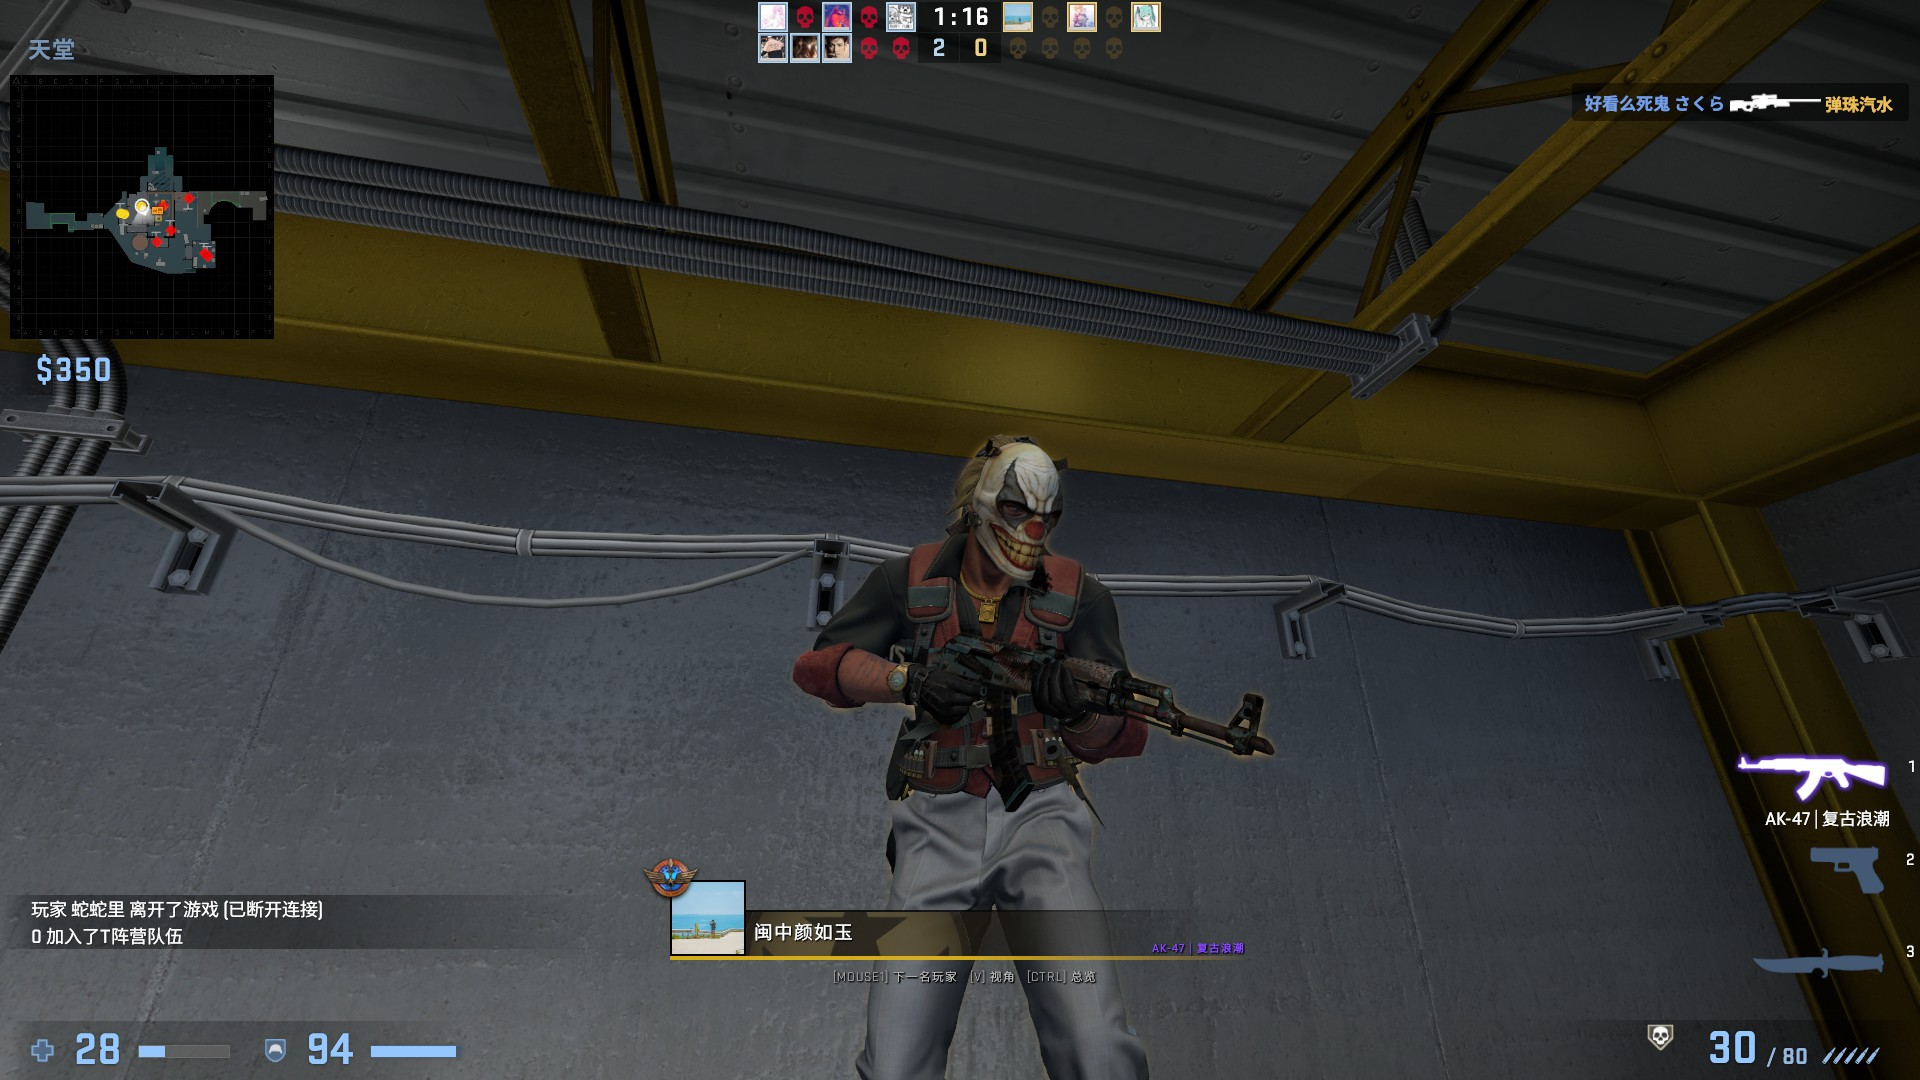head: (954, 428, 1067, 580)
